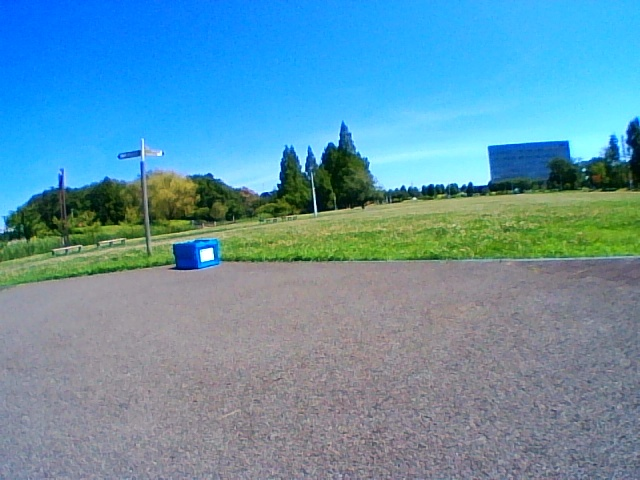blue_box: (174, 239, 218, 270)
tag: (202, 248, 213, 262)
